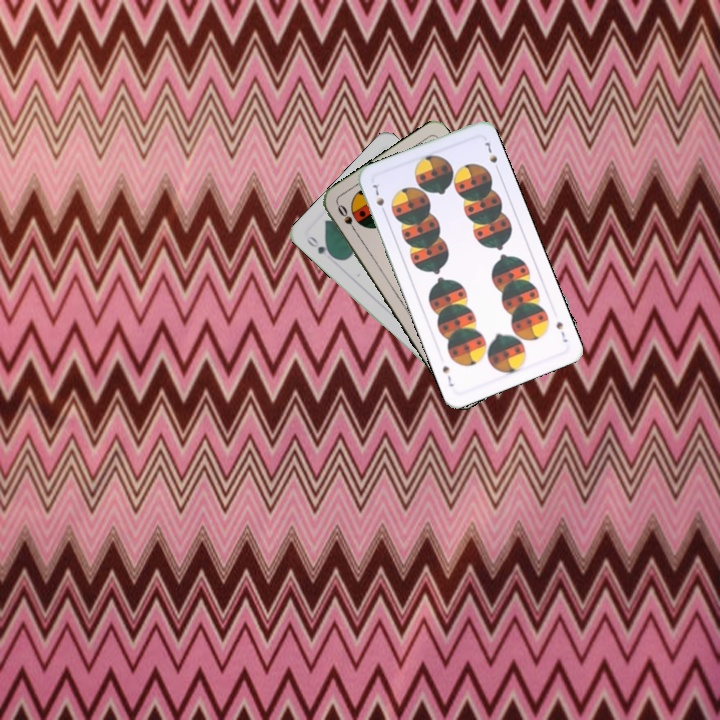GO: (302, 232, 337, 261)
S7: (368, 180, 389, 218), (552, 318, 570, 345)
SO: (333, 200, 360, 237)
